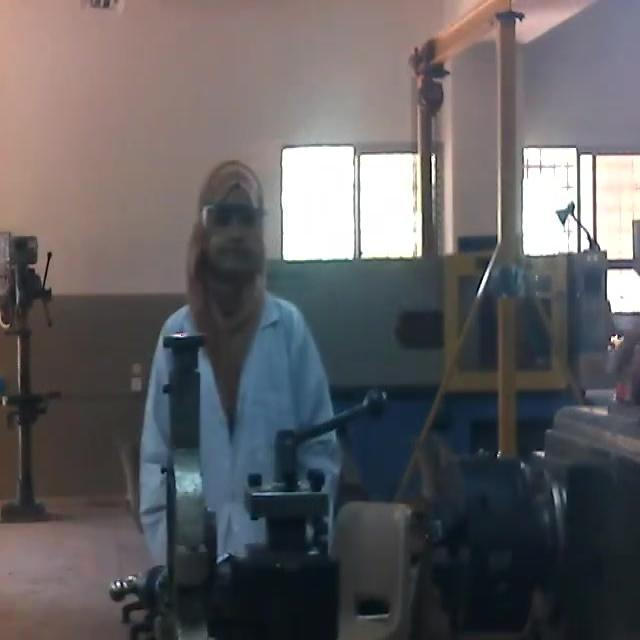googles: (198, 186, 274, 252)
labcoat: (138, 280, 348, 640)
